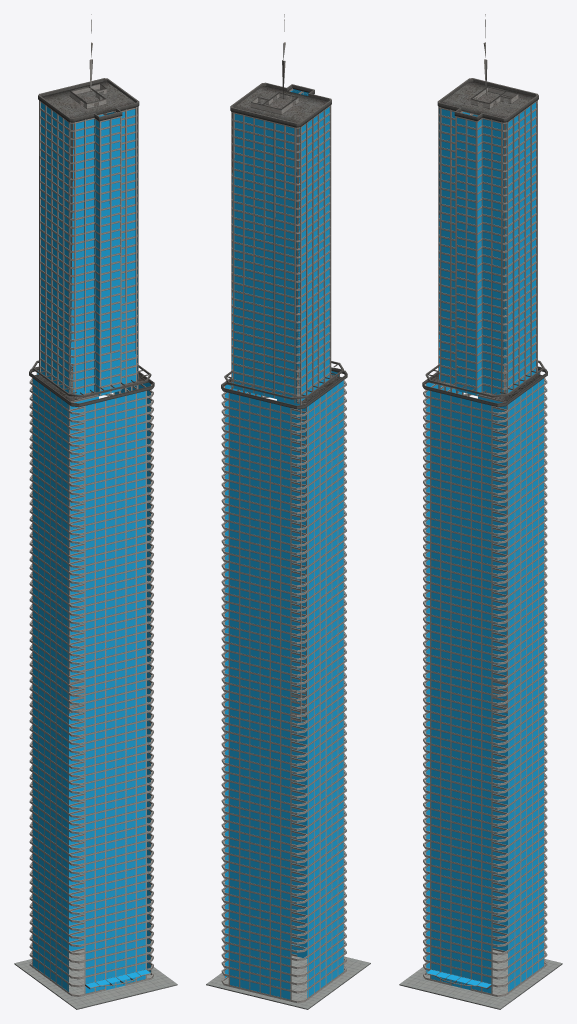
Rendered from sky1_o.glb.
3 renders of one model, left to right at view 1: azimuth 30°, elevation 25°; view 2: azimuth 150°, elevation 25°; view 3: azimuth 330°, elevation 25°, orthographic.
Visible parts, largest first — view 1: Object_6, Object_4, Object_3, Object_2; view 2: Object_6, Object_4, Object_3, Object_2; view 3: Object_6, Object_4, Object_3, Object_2.
Part boxes in pixels (box(x1,y1,x2,y2)): Object_6: box(33, 102, 150, 993); Object_4: box(29, 14, 153, 996); Object_3: box(29, 78, 154, 988); Object_2: box(14, 950, 177, 1009); Object_6: box(225, 89, 343, 999); Object_4: box(221, 14, 346, 1002); Object_3: box(221, 82, 347, 409); Object_2: box(206, 955, 370, 1009); Object_6: box(426, 102, 543, 993); Object_4: box(423, 14, 547, 996); Object_3: box(422, 78, 547, 989); Object_2: box(399, 950, 562, 1009).
Size of the model in its own units: 64.33 by 582 by 68.93.
4 materials, 3 textured.
